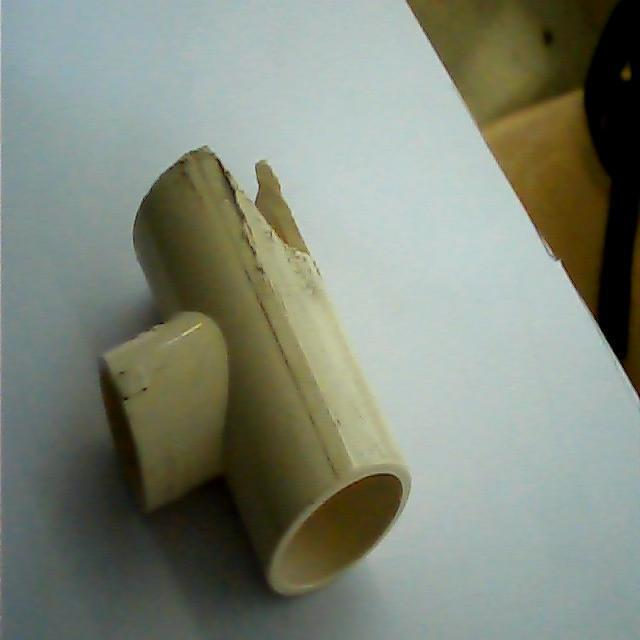Defective: (209, 146, 309, 258), (229, 160, 311, 257)
T Joint: (102, 148, 413, 600)
